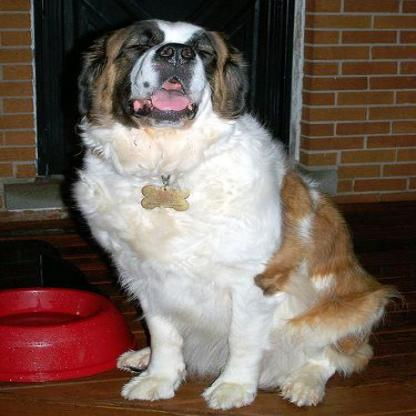Saint_Bernard: (72, 17, 389, 414)
